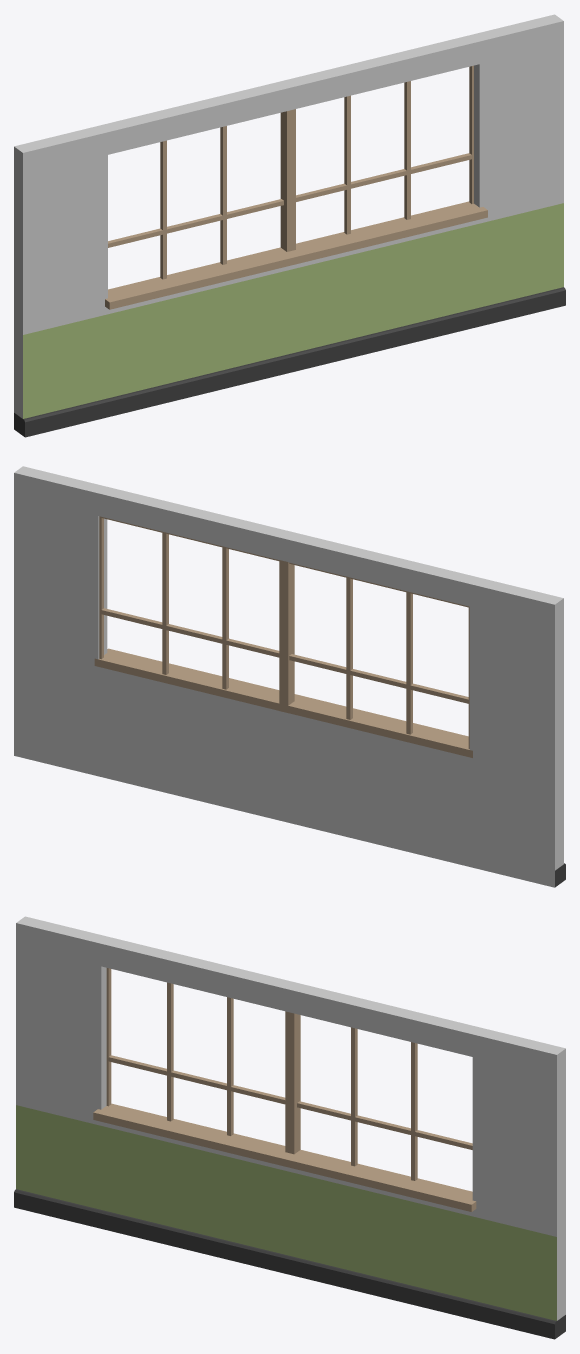
File: Kinder2_Wall_Window.fbx
3 views of the same model, one above another, from view 1: azimuth 30°, elevation 25°; view 2: azimuth 150°, elevation 25°; view 3: azimuth 330°, elevation 25° (orthographic).
Parts seen in each view (by area): view 1: WallFloor2_10.002; view 2: WallFloor2_10.002; view 3: WallFloor2_10.002.
Part boxes in pixels (x1,y1,x2,y2): WallFloor2_10.002: (14, 14, 565, 437); WallFloor2_10.002: (14, 466, 565, 887); WallFloor2_10.002: (14, 916, 565, 1339).
Bounding box in the file's own units: 500 × 250 × 21.92.
